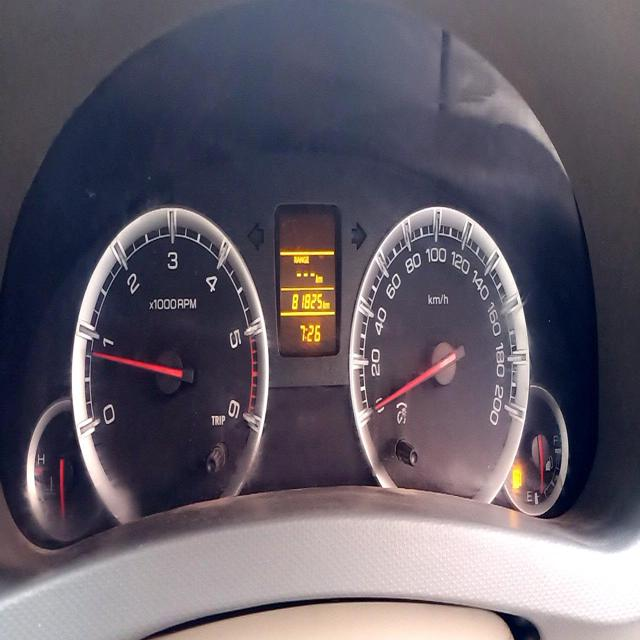odometer: (288, 289, 323, 312)
